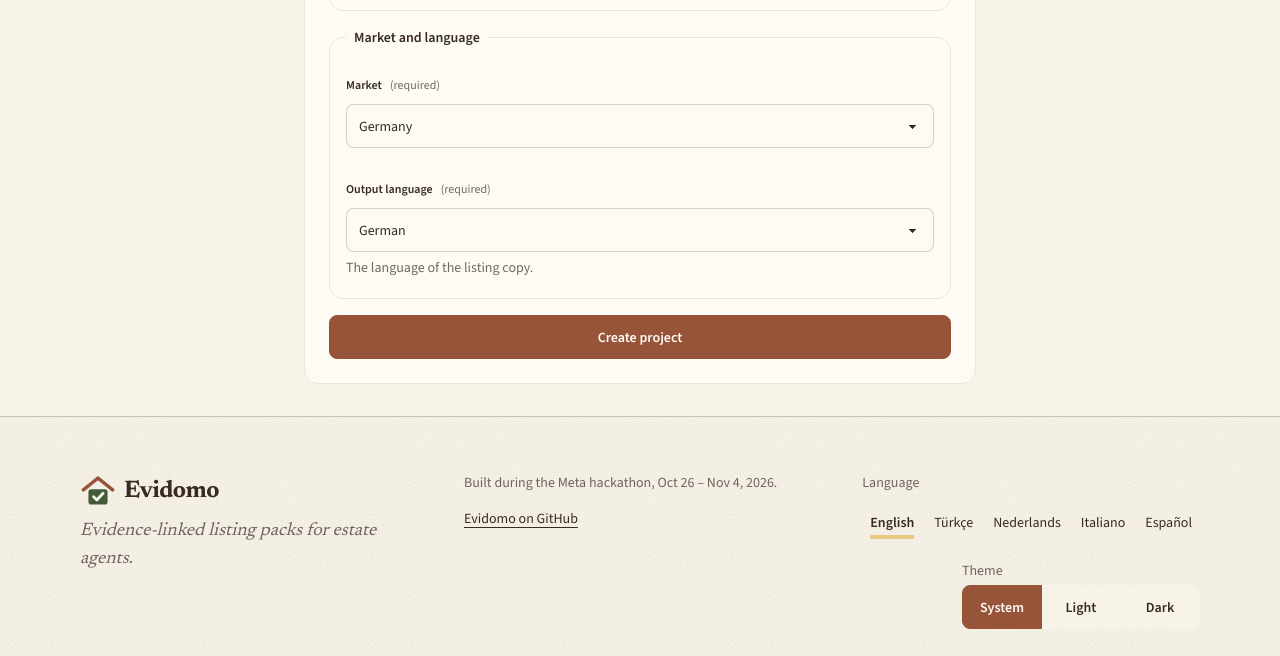
new project page: double submit › clears a field error when that field changes
The width and height of the screenshot is (1280, 656).
(page scrolled)
Click the button "Create project": {"x": 640, "y": 337} [329,315,951,359]
(page scrolled)
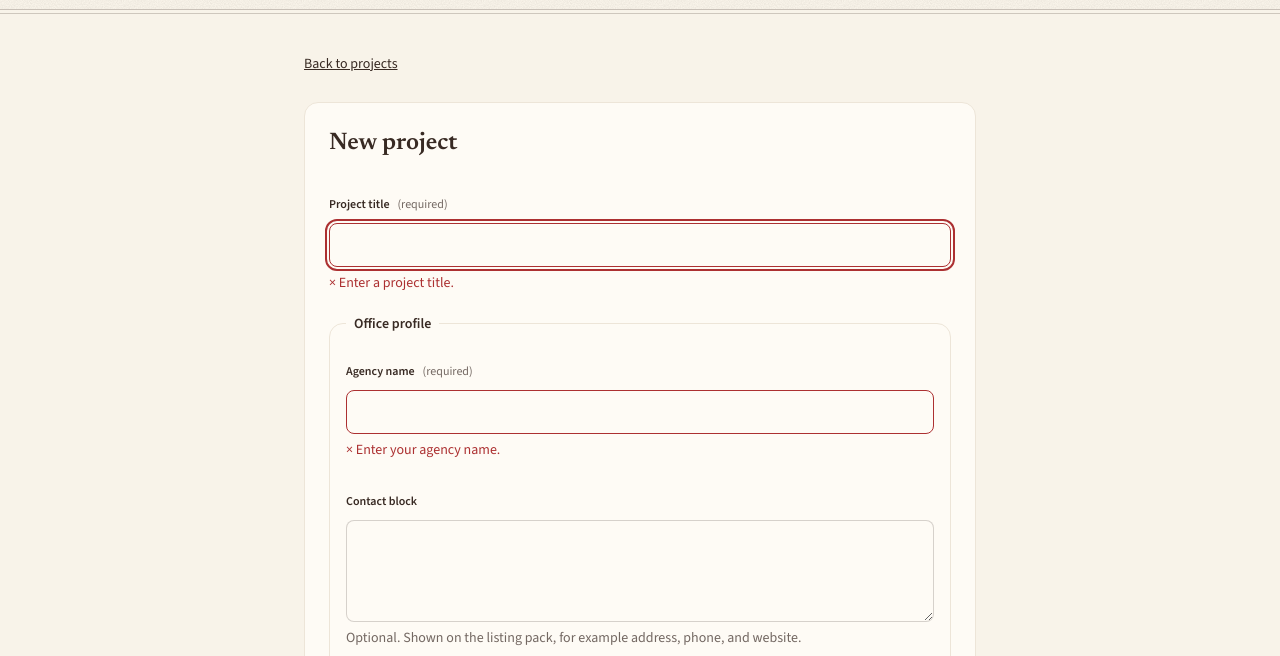
Result: the field labelled "Project title (required)" is marked as invalid
In the field labelled "Project title (required)": {"x": 640, "y": 245} [329,223,951,267], type "A"
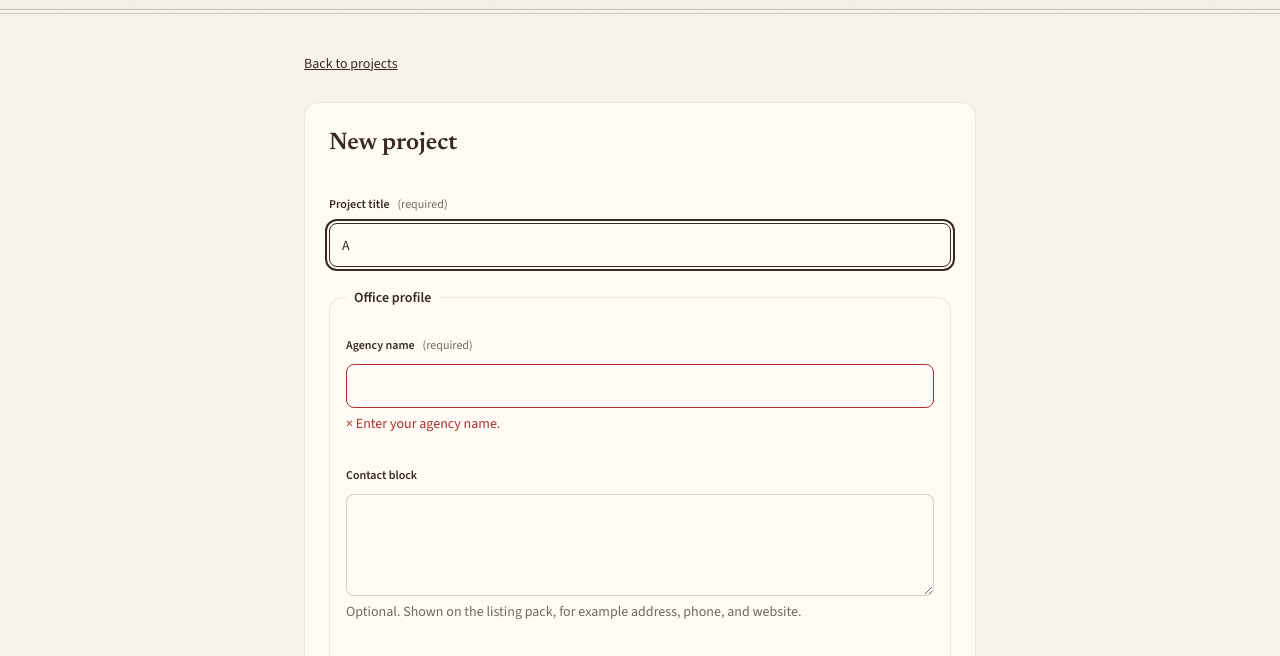
Result: the text "Enter your agency name." is shown at [356,414,500,433]
Result: the text "Enter a project title." is gone
